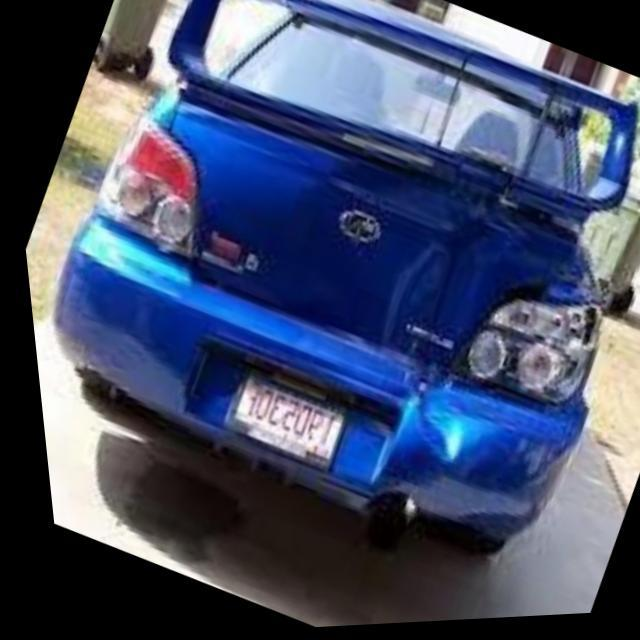dent: (375, 216, 592, 380)
lamp broken: (443, 305, 597, 417)
